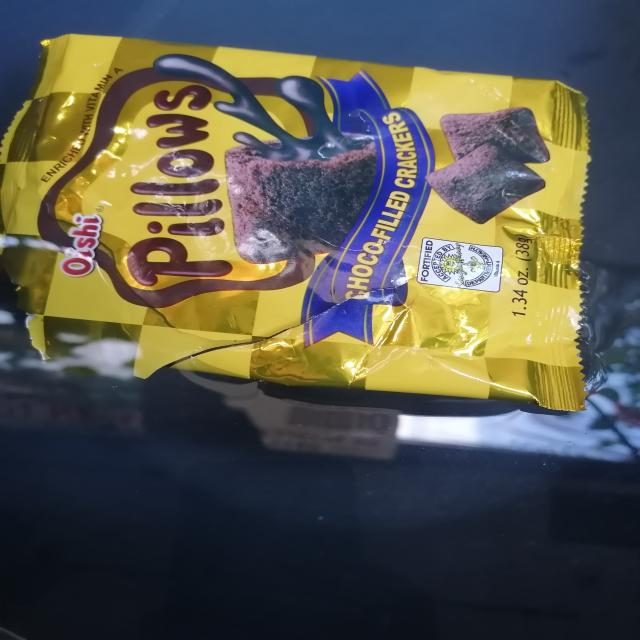Plastic Wrapper: (0, 34, 609, 413)
